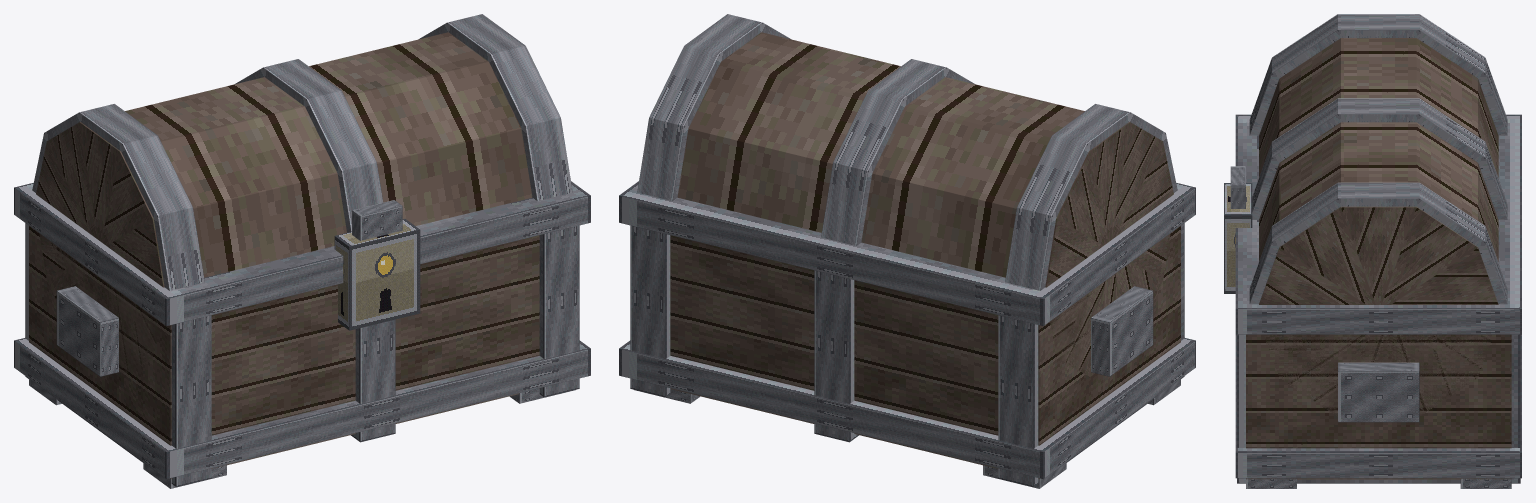
The model's file is bau_de_caverna.glb.
The picture shows the model from 3 angles, left to right: view 1: azimuth 30°, elevation 25°; view 2: azimuth 150°, elevation 25°; view 3: azimuth 270°, elevation 25°; orthographic projection. The views are drawn at different scales.
Visible parts, largest first — view 1: bau_de_caverna; view 2: bau_de_caverna; view 3: bau_de_caverna.
Part boxes in pixels (x1,y1,x2,y2): bau_de_caverna: (14, 14, 590, 488); bau_de_caverna: (619, 14, 1195, 488); bau_de_caverna: (1224, 14, 1521, 488).
Size of the model in its own units: 0.95 by 0.6254 by 0.5825.
1 material, 1 textured.
